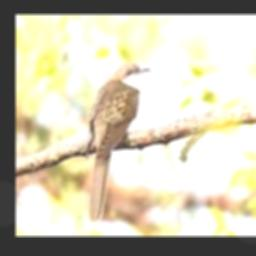Cuckoo: (87, 62, 152, 225)
